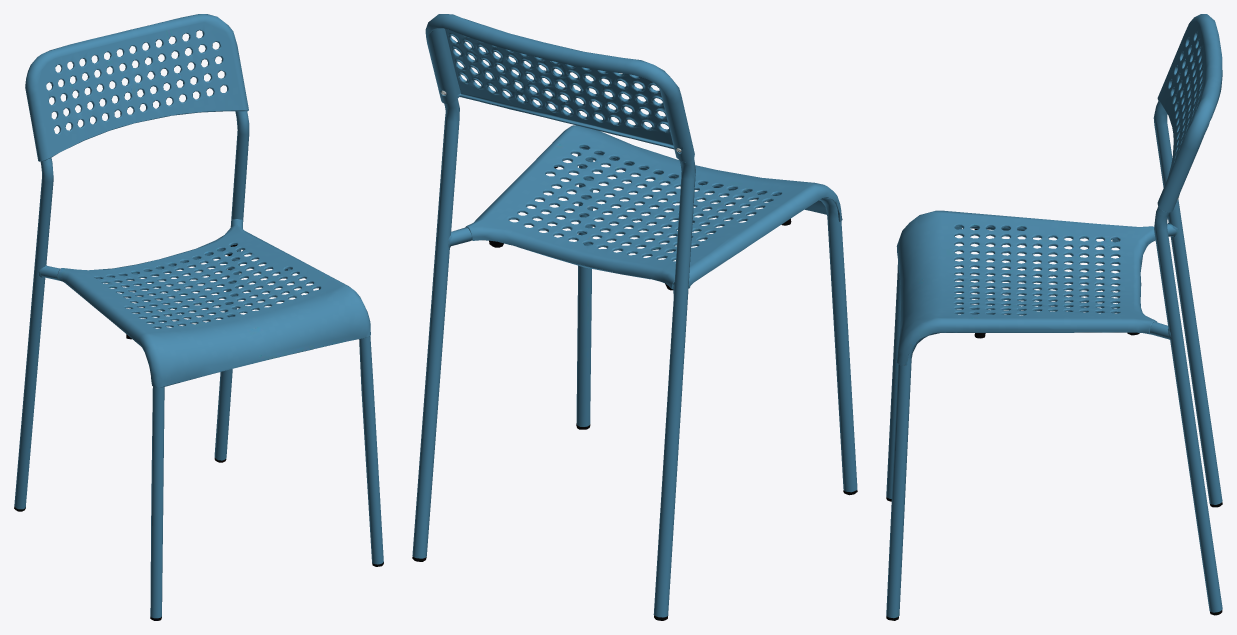
Rendered from sandsberg_chair_blue.glb.
The picture shows the model from 3 angles, left to right: view 1: azimuth 30°, elevation 25°; view 2: azimuth 150°, elevation 25°; view 3: azimuth 270°, elevation 25°; orthographic projection. The views are drawn at different scales.
Parts seen in each view (by area): view 1: ASY_ART_80605425_S01_NV01; view 2: ASY_ART_80605425_S01_NV01; view 3: ASY_ART_80605425_S01_NV01.
Boxes of the visible parts, left/top/right/bottom form: ASY_ART_80605425_S01_NV01: left=14, top=14, right=383, bottom=620; ASY_ART_80605425_S01_NV01: left=412, top=14, right=857, bottom=620; ASY_ART_80605425_S01_NV01: left=886, top=14, right=1222, bottom=620.
Bounding box in the file's own units: 0.4157 × 0.7799 × 0.4736.
1 material, 1 textured.
